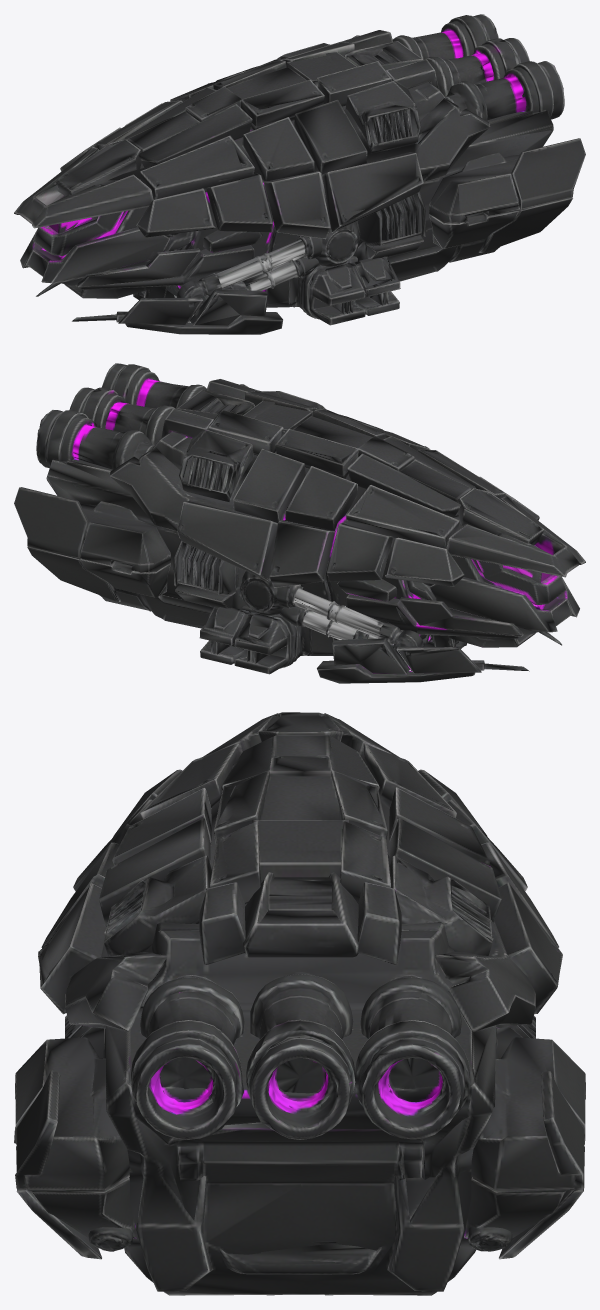
File: dust_matriarch_hull.glb
The picture shows the model from 3 angles, top to bottom: view 1: azimuth 30°, elevation 25°; view 2: azimuth 150°, elevation 25°; view 3: azimuth 270°, elevation 25°; orthographic projection. The views are drawn at different scales.
Visible parts, largest first — view 1: dust_matriarch_hull; view 2: dust_matriarch_hull; view 3: dust_matriarch_hull.
Boxes of the visible parts, <box> form: dust_matriarch_hull: <box>14,14,585,334</box>; dust_matriarch_hull: <box>14,363,585,683</box>; dust_matriarch_hull: <box>14,712,585,1295</box>.
Bounding box in the file's own units: 2.35 × 0.9633 × 1.32.
1 material, 1 textured.
